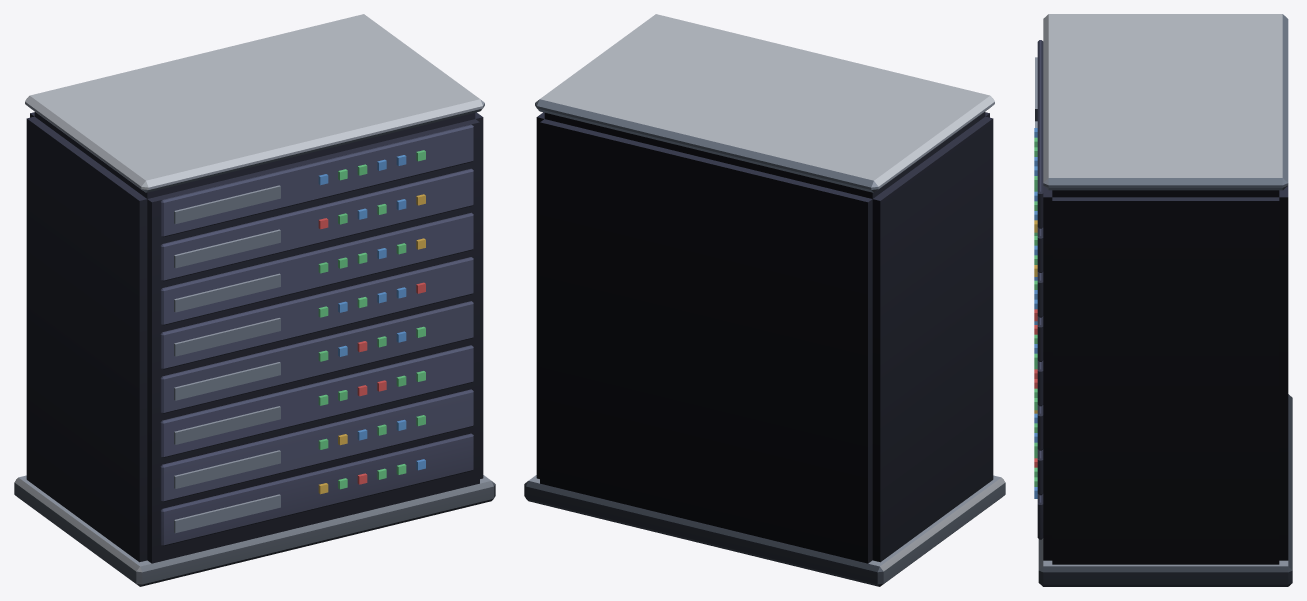
File: server_rack.glb
3 renders of one model, left to right at view 1: azimuth 30°, elevation 25°; view 2: azimuth 150°, elevation 25°; view 3: azimuth 270°, elevation 25°, orthographic.
Visible parts, largest first — view 1: server_rack; view 2: server_rack; view 3: server_rack.
Boxes of the visible parts, box(x1,y1,x2,y2) form: server_rack: box(14, 14, 495, 586); server_rack: box(524, 14, 1005, 586); server_rack: box(1034, 14, 1292, 586).
Bounding box in the file's own units: 0.92 × 0.984 × 0.57.
